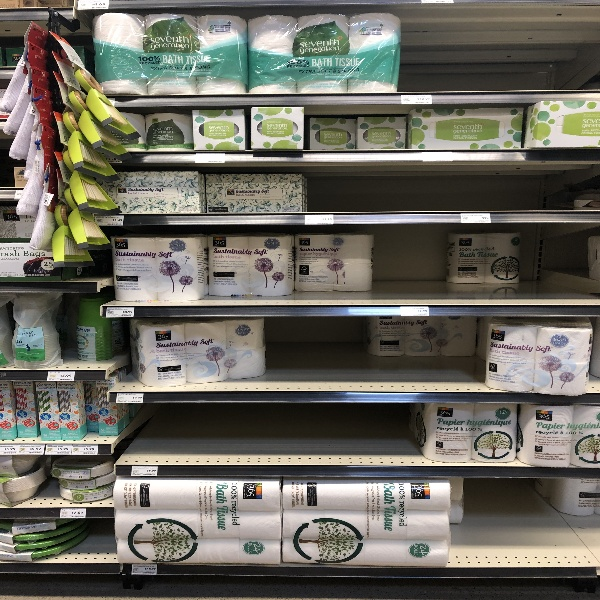void: (119, 397, 424, 467), (398, 2, 600, 91), (299, 161, 600, 216), (263, 313, 374, 392), (466, 474, 549, 577), (519, 218, 600, 305), (370, 222, 451, 306)
